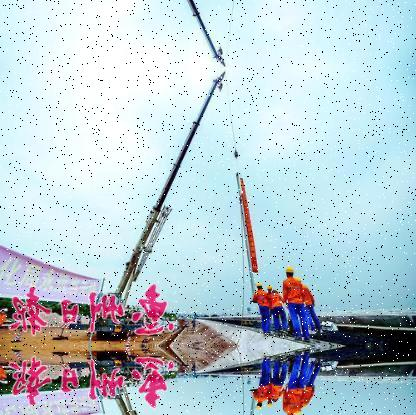helmet: (286, 264, 295, 278), (266, 283, 275, 294), (266, 397, 275, 408), (256, 281, 265, 291), (256, 399, 265, 409)
